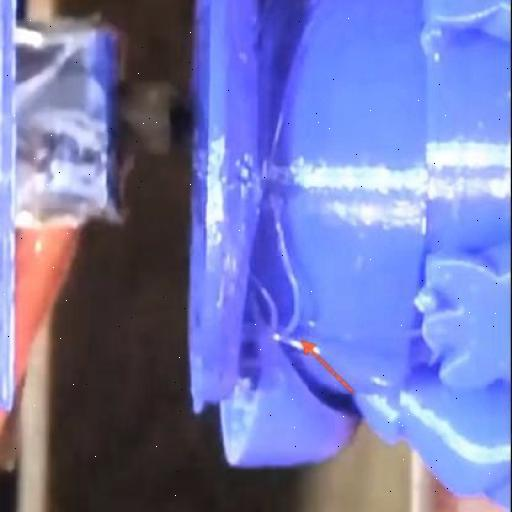spaghetti: (235, 176, 309, 344)
